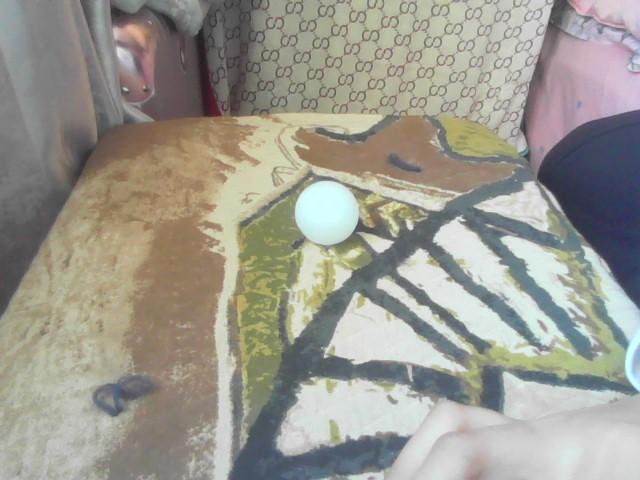ball: (296, 184, 359, 244)
